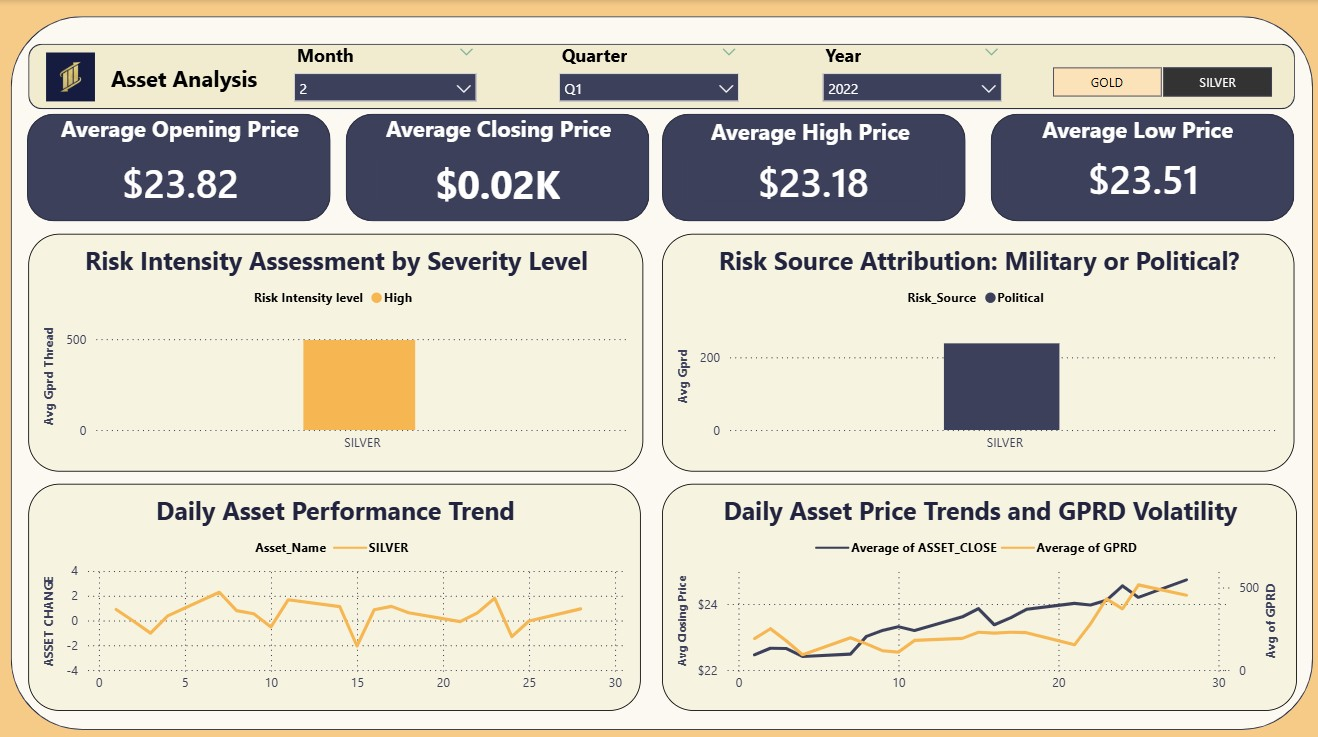

This screenshot's page, from the dashboard's own definition file:
{"tool":"powerbi","page":{"name":"Page 1","canvas":[1280,720],"ordinal":0},"visuals":[{"type":"shape","box":[13.7,15.1,1257,688.9],"z":0},{"type":"shape","box":[30.2,42.5,1222.6,63.1],"z":1000},{"type":"lineChart","title":"Daily Asset Price Trends and GPRD Volatility","fields":{"Y":["Avg(FACT_ASSET_PRICE.ASSET_CLOSE)"],"Y2":["Avg(FACT_ASSET_PRICE.GPRD)"],"Category":["DIM_DATE.Date.Variation.Date Hierarchy.Day"]},"box":[641.8,466.9,612.9,219.6],"z":2000},{"type":"slicer","fields":{"Values":["DIM_ASSET.Asset_Name"]},"box":[992.9,57.9,261.8,42.2],"z":3000},{"type":"slicer","fields":{"Values":["DIM_DATE.Year"]},"box":[786.6,36.2,193,63.9],"z":4000},{"type":"slicer","fields":{"Values":["DIM_DATE.Quarter"]},"box":[532,36.2,194.2,71.2],"z":5000},{"type":"slicer","fields":{"Values":["DIM_DATE.Month"]},"box":[276.3,36.2,196.6,73.6],"z":6000},{"type":"lineChart","title":"Daily Asset Performance Trend","fields":{"Y":["Avg(FACT_ASSET_PRICE.ASSET_CHANGE)"],"Series":["DIM_ASSET.Asset_Name"],"Category":["DIM_DATE.Date.Variation.Date Hierarchy.Day"]},"box":[30.2,466.9,591.2,219.6],"z":7000},{"type":"clusteredColumnChart","title":"Risk Source Attribution: Military or Political?","fields":{"Y":["Avg(FACT_ASSET_PRICE.GPRD)"],"Category":["DIM_ASSET.Asset_Name"],"Series":["DIM_GEOPOLTICALRISK.Risk_Source"]},"box":[641.8,225.6,610.5,229.2],"z":8000},{"type":"clusteredColumnChart","title":"Risk Intensity Assessment by Severity Level","fields":{"Category":["DIM_ASSET.Asset_Name"],"Series":["DIM_GEOPOLTICALRISK.Risk_Category"],"Y":["Avg(FACT_ASSET_PRICE.GPRD_THREAT)"]},"box":[30.2,225.6,593.6,229.2],"z":9000},{"type":"shape","box":[959.1,109.8,293.2,103.8],"z":10000},{"type":"shape","box":[641.8,109.8,293.2,103.8],"z":11000},{"type":"shape","box":[336.6,109.8,293.2,103.8],"z":12000},{"type":"shape","box":[29,109.8,293.2,103.8],"z":13000},{"type":"cardVisual","fields":{"Data":["Avg(FACT_ASSET_PRICE.ASSET_LOW)"]},"box":[963.9,132.7,283.5,74.8],"z":14000},{"type":"cardVisual","fields":{"Data":["Avg(FACT_ASSET_PRICE.ASSET_HIGH)"]},"box":[655.1,135.1,263,76],"z":15000},{"type":"cardVisual","fields":{"Data":["Avg(FACT_ASSET_PRICE.ASSET_OPEN)"]},"box":[43.4,136.9,265.4,74.8],"z":16000},{"type":"textbox","box":[684.1,107.4,250.9,54.3],"z":17000},{"type":"textbox","box":[56.7,103.8,250.9,54.3],"z":18000},{"type":"textbox","box":[1003.8,105,250.9,54.3],"z":19000},{"type":"textbox","box":[370.4,103.8,250.9,54.3],"z":20000},{"type":"cardVisual","fields":{"Data":["Avg(FACT_ASSET_PRICE.ASSET_CLOSE)"]},"box":[359.5,138.7,247.3,74.8],"z":21000},{"type":"textbox","box":[105,55.5,153.2,49.5],"z":22000},{"type":"image","box":[29,50.7,84.5,47.1],"z":23000}]}

Visuals, with their boxes in screenshot pixels (x1, y1, x2, y2), scaled from the page's 1280x720 canvas onto the 1318x737 screenshot:
shape: Rect(14, 15, 1308, 721)
shape: Rect(31, 44, 1290, 108)
"Daily Asset Price Trends and GPRD Volatility" lineChart: Rect(661, 478, 1292, 703)
slicer - DIM_ASSET.Asset_Name: Rect(1022, 59, 1292, 102)
slicer - DIM_DATE.Year: Rect(810, 37, 1009, 102)
slicer - DIM_DATE.Quarter: Rect(548, 37, 748, 110)
slicer - DIM_DATE.Month: Rect(285, 37, 487, 112)
"Daily Asset Performance Trend" lineChart: Rect(31, 478, 640, 703)
"Risk Source Attribution: Military or Political?" clusteredColumnChart: Rect(661, 231, 1289, 466)
"Risk Intensity Assessment by Severity Level" clusteredColumnChart: Rect(31, 231, 642, 466)
shape: Rect(988, 112, 1289, 219)
shape: Rect(661, 112, 963, 219)
shape: Rect(347, 112, 648, 219)
shape: Rect(30, 112, 332, 219)
cardVisual - Avg(FACT_ASSET_PRICE.ASSET_LOW): Rect(993, 136, 1284, 212)
cardVisual - Avg(FACT_ASSET_PRICE.ASSET_HIGH): Rect(675, 138, 945, 216)
cardVisual - Avg(FACT_ASSET_PRICE.ASSET_OPEN): Rect(45, 140, 318, 217)
textbox: Rect(704, 110, 963, 166)
textbox: Rect(58, 106, 317, 162)
textbox: Rect(1034, 107, 1292, 163)
textbox: Rect(381, 106, 640, 162)
cardVisual - Avg(FACT_ASSET_PRICE.ASSET_CLOSE): Rect(370, 142, 625, 219)
textbox: Rect(108, 57, 266, 107)
image: Rect(30, 52, 117, 100)
